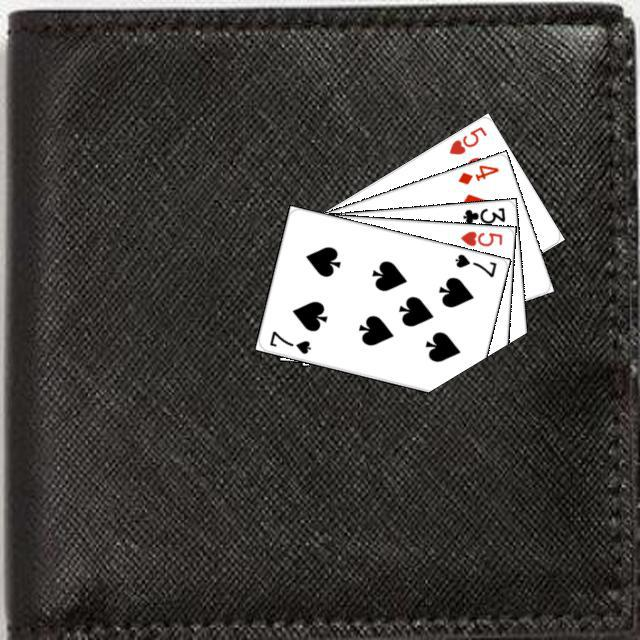3c: (458, 202, 507, 226)
4d: (453, 160, 501, 186)
5h: (444, 122, 489, 157), (455, 226, 504, 248)
7s: (450, 249, 498, 279), (265, 326, 313, 356)
